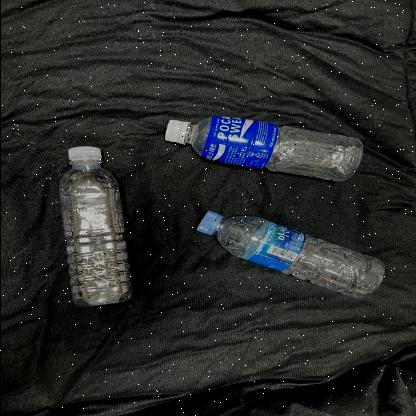Plastic Bottle: (195, 210, 385, 298), (164, 115, 364, 182), (58, 145, 132, 306)
